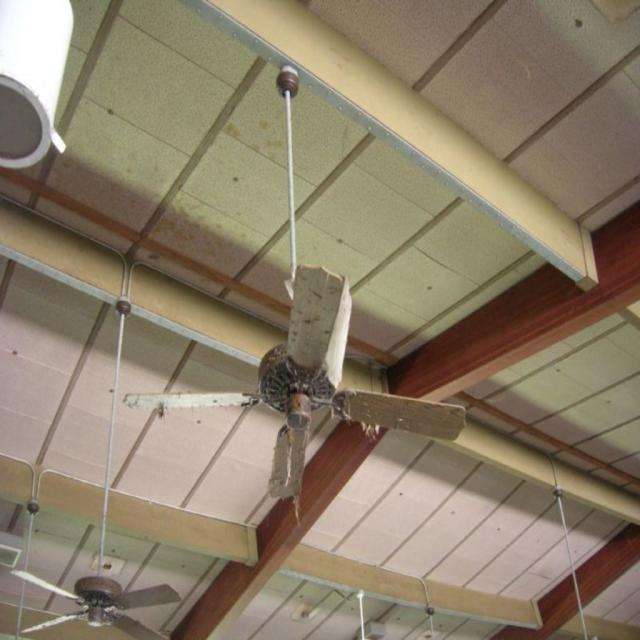Bulb: (123, 66, 468, 497), (12, 289, 181, 639)
